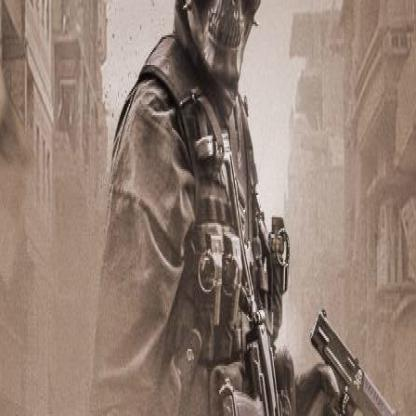gun: (300, 297, 415, 414), (207, 294, 312, 414)
